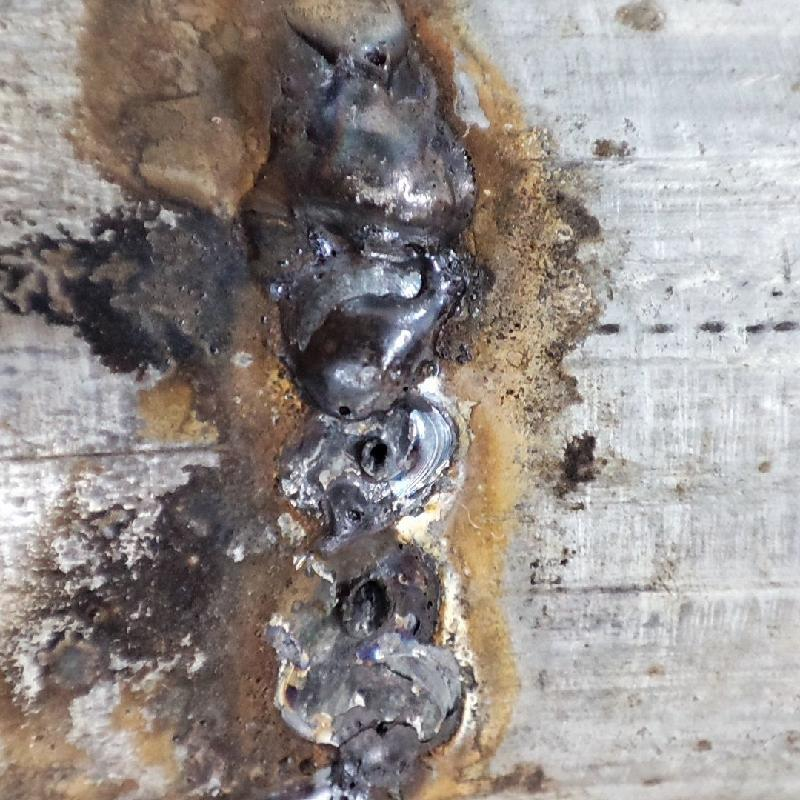Not_fully_soldered: (255, 412, 477, 795), (268, 3, 438, 89)
Surface_pores: (353, 428, 401, 483), (328, 490, 373, 533), (356, 36, 398, 82), (322, 390, 359, 422)
Weld: (238, 88, 483, 424)
